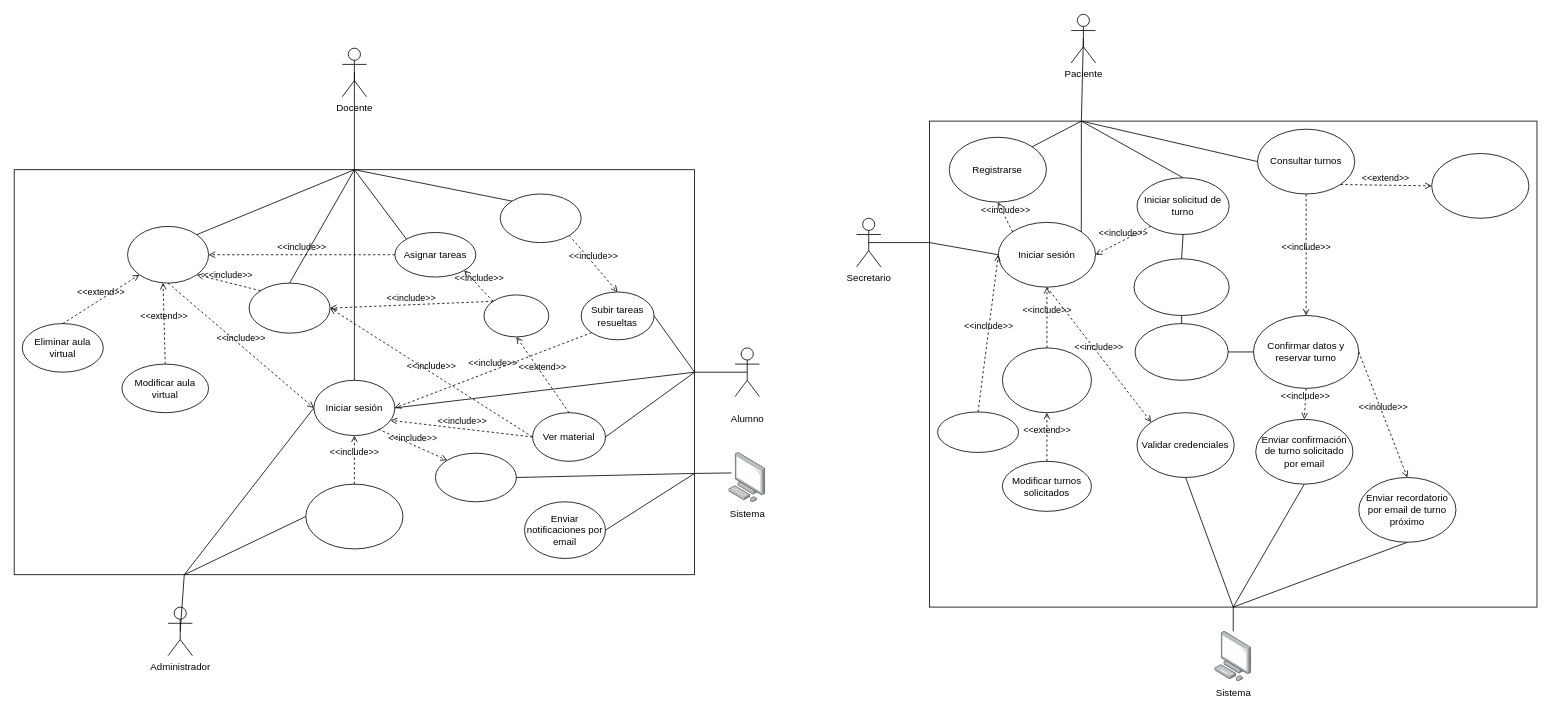
Some shapes in this 1551 by 713 pixel diagram are drawn without their labels. Here are the shapes that lost their labels. From the top down, the centre of each, then its label:
At pixel 1480 185: "Cancelar turnos".
At pixel 540 218: "Calificar tareas".
At pixel 168 254: "Crear aula virtual".
At pixel 1181 286: "Seleccionar especista".
At pixel 289 307: "Subir material".
At pixel 516 315: "Realizar consultas".
At pixel 1181 351: "Seleccionar día y hora".
At pixel 1046 380: "Consultar historial de turnos por paciente".
At pixel 978 431: "Registrar disponibilidad de doctores".
At pixel 475 477: "Validar inicio de sesión".
At pixel 354 516: "Crear perfiles de alumno y docente".
